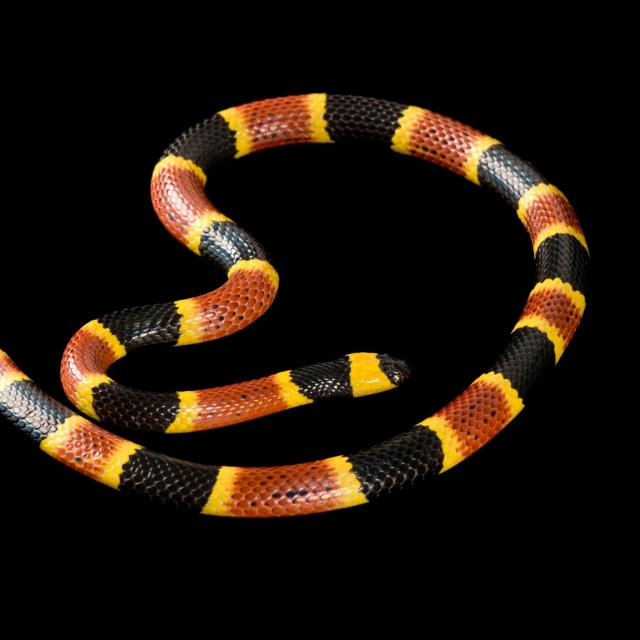Snake: (2, 75, 598, 537)
